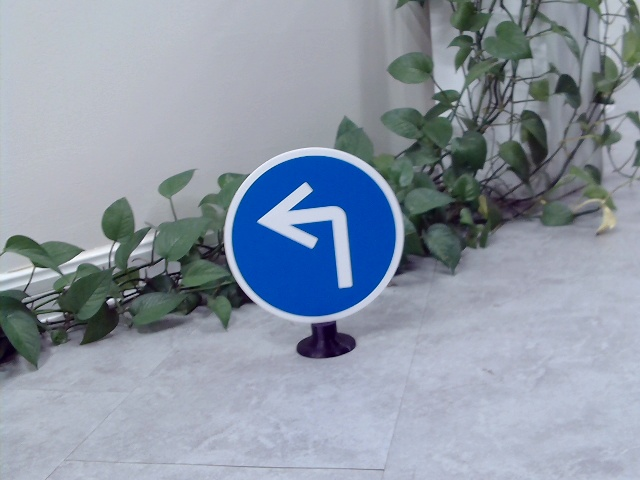turn_left: (262, 179, 361, 287)
